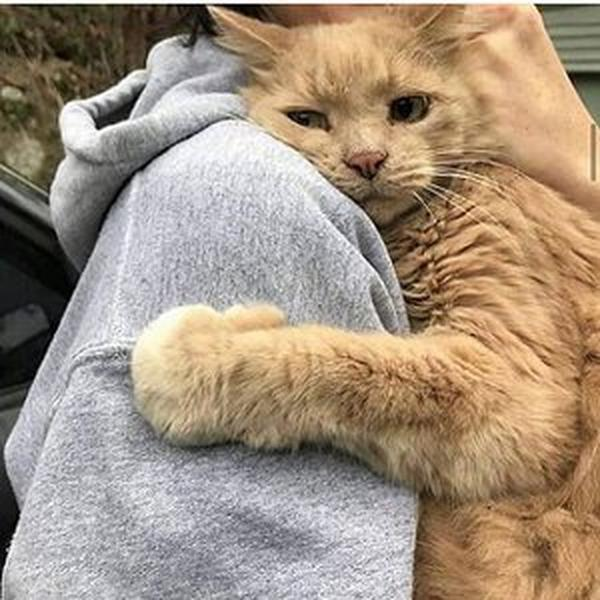michi: (124, 6, 600, 579)
